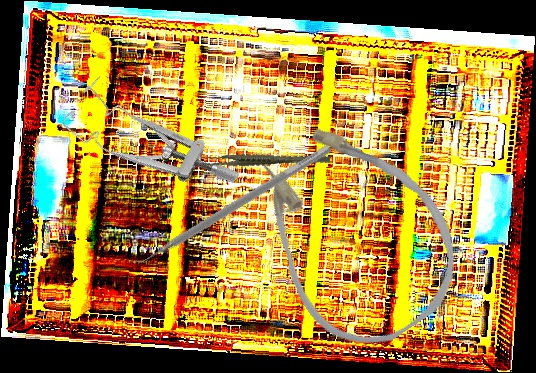Cannula: (219, 87, 485, 370)
Spatula Surgical: (124, 134, 333, 276)
Speculum: (58, 62, 242, 233)
Tissue Forceps: (199, 133, 331, 188)
